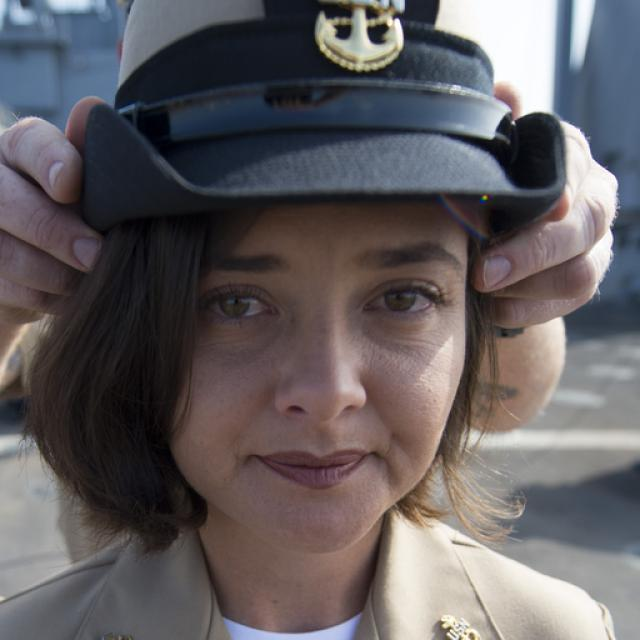happy: (165, 158, 469, 552)
